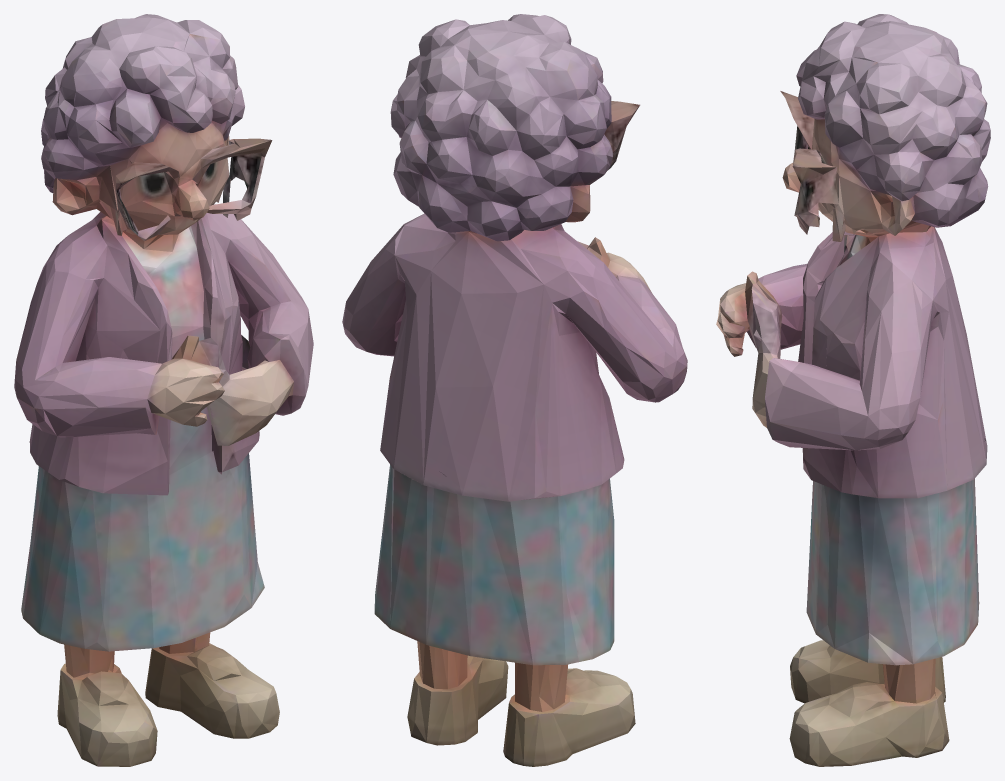
The model's file is dot.glb.
The picture shows the model from 3 angles, left to right: view 1: azimuth 30°, elevation 25°; view 2: azimuth 150°, elevation 25°; view 3: azimuth 270°, elevation 25°; orthographic projection. The views are drawn at different scales.
Parts seen in each view (by area): view 1: geometry_0; view 2: geometry_0; view 3: geometry_0.
Part boxes in pixels (x1,y1,x2,y2): geometry_0: (14,14,313,766); geometry_0: (342,14,687,766); geometry_0: (716,14,990,766).
Size of the model in its own units: 0.4605 by 0.9995 by 0.3627.
1 material, 1 textured.
